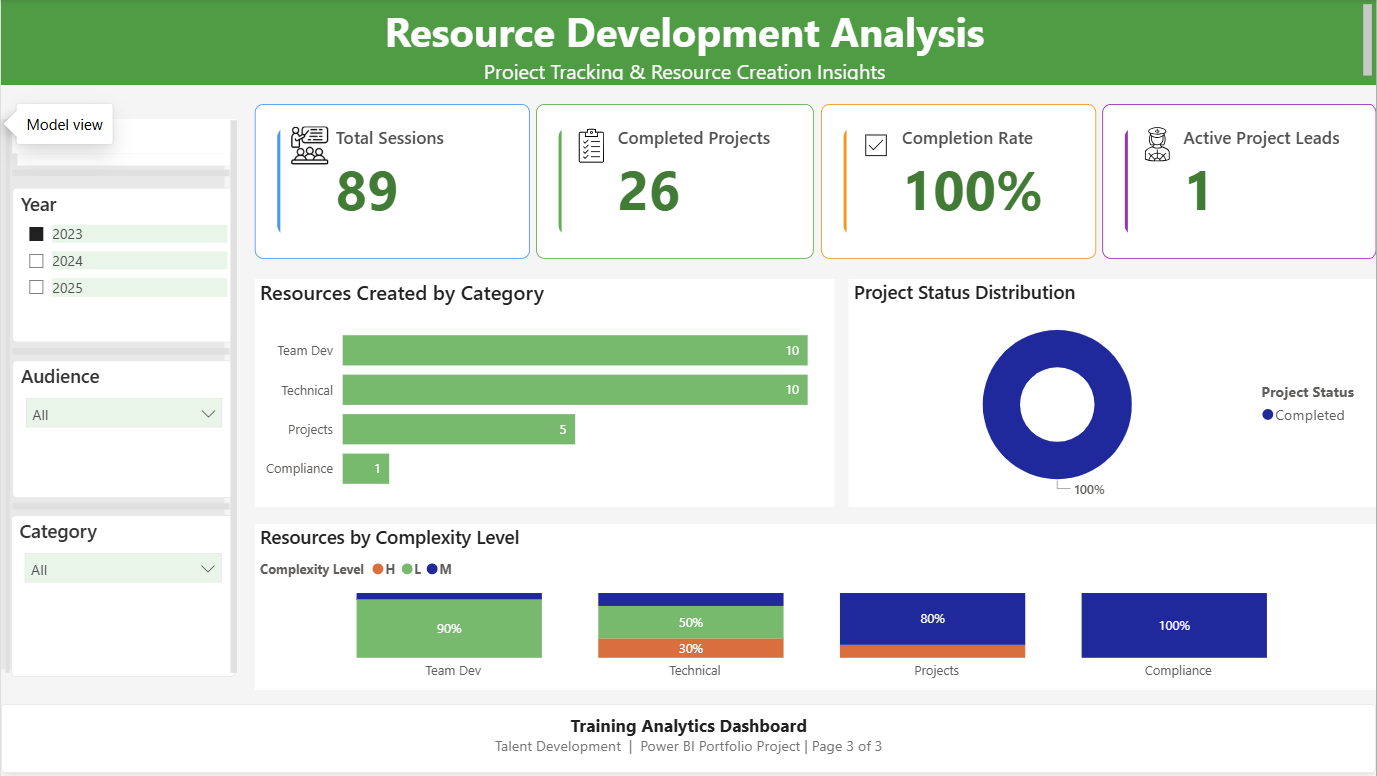

The dashboard page shown, as its layout file describes it:
{"tool":"powerbi","page":{"name":"03_Resource_Development_Analysis","canvas":[1280,720],"ordinal":2},"visuals":[{"type":"shape","title":"Filter Panel - Background","box":[0,112,208,512],"z":0},{"type":"textbox","box":[0,0,1280.2,80],"z":1000},{"type":"cardVisual","fields":{"Data":["Facts_Training_Session.Total Training Sessions"]},"box":[236,97.7,255.8,144.2],"z":2000},{"type":"cardVisual","fields":{"Data":["Facts_Development_Projects.Completed Projects"]},"box":[498.1,97.7,258.1,144.2],"z":3000},{"type":"cardVisual","fields":{"Data":["Facts_Development_Projects.Project Completion Rate"]},"box":[762.4,97.7,255.8,144.2],"z":4000},{"type":"cardVisual","fields":{"Data":["Facts_Development_Projects.Active Project Leads"]},"box":[1024.2,97.7,255.8,144.2],"z":5000},{"type":"slicer","title":"Category","fields":{"Values":["Dim_Category.Category"]},"box":[9.7,480,208.7,150.3],"z":6000},{"type":"shape","title":"Divider - Category/Audience","box":[10,464,202,16],"z":7000},{"type":"slicer","title":"Audience","fields":{"Values":["Dim_Audience.Audience"]},"box":[10,336,208,128],"z":8000},{"type":"shape","title":"Divider - Category/Audience","box":[10,320,202,16],"z":9000},{"type":"slicer","title":"Year","fields":{"Values":["Dim_Date.Year"]},"box":[10,176,208,144],"z":10000},{"type":"shape","title":"Divider - Category/Audience","box":[10,153,202,16.7],"z":11000},{"type":"shape","title":"FILTERS","box":[10,112,208,48],"z":12000},{"type":"textbox","box":[0,656,1280,64],"z":13000},{"type":"shape","box":[210.1,112.7,12,514],"z":14000},{"type":"shape","box":[0,112.7,12.5,514],"z":15000},{"type":"clusteredBarChart","title":"Resources Created by Category","fields":{"Category":["Dim_Category.Category Short"],"Y":["Facts_Development_Projects.Total Resources"]},"box":[236,260.5,539.5,211.6],"z":16000},{"type":"donutChart","title":"Project Status Distribution","fields":{"Y":["CountNonNull(Facts_Development_Projects.Project_ID)"],"Category":["Facts_Development_Projects.Project Status Name"]},"box":[788.4,260.5,491.9,211.6],"z":17000},{"type":"hundredPercentStackedColumnChart","title":"Resources by Complexity Level","fields":{"Category":["Dim_Category.Category Short"],"Series":["Facts_Development_Projects.Level"],"Y":["CountNonNull(Facts_Development_Projects.Project_ID)"]},"box":[236,488.4,1044.2,154.7],"z":18000}]}

Visuals, with their boxes on the page's 1280x720 design canvas (x1, y1, x2, y2). These are canvas units, not pixel positions in the 1377x776 screenshot, which may show the page scaled, cropped or inside an application window:
"Filter Panel - Background" shape: box(0, 112, 208, 624)
textbox: box(0, 0, 1280, 80)
cardVisual - Facts_Training_Session.Total Training Sessions: box(236, 98, 492, 242)
cardVisual - Facts_Development_Projects.Completed Projects: box(498, 98, 756, 242)
cardVisual - Facts_Development_Projects.Project Completion Rate: box(762, 98, 1018, 242)
cardVisual - Facts_Development_Projects.Active Project Leads: box(1024, 98, 1280, 242)
"Category" slicer: box(10, 480, 218, 630)
"Divider - Category/Audience" shape: box(10, 464, 212, 480)
"Audience" slicer: box(10, 336, 218, 464)
"Divider - Category/Audience" shape: box(10, 320, 212, 336)
"Year" slicer: box(10, 176, 218, 320)
"Divider - Category/Audience" shape: box(10, 153, 212, 170)
"FILTERS" shape: box(10, 112, 218, 160)
textbox: box(0, 656, 1280, 720)
shape: box(210, 113, 222, 627)
shape: box(0, 113, 12, 627)
"Resources Created by Category" clusteredBarChart: box(236, 260, 776, 472)
"Project Status Distribution" donutChart: box(788, 260, 1280, 472)
"Resources by Complexity Level" hundredPercentStackedColumnChart: box(236, 488, 1280, 643)
